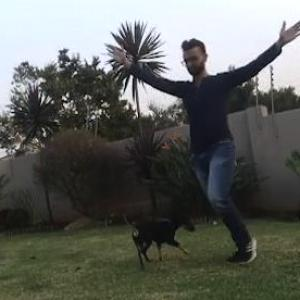takeoff: (135, 18, 293, 242)
